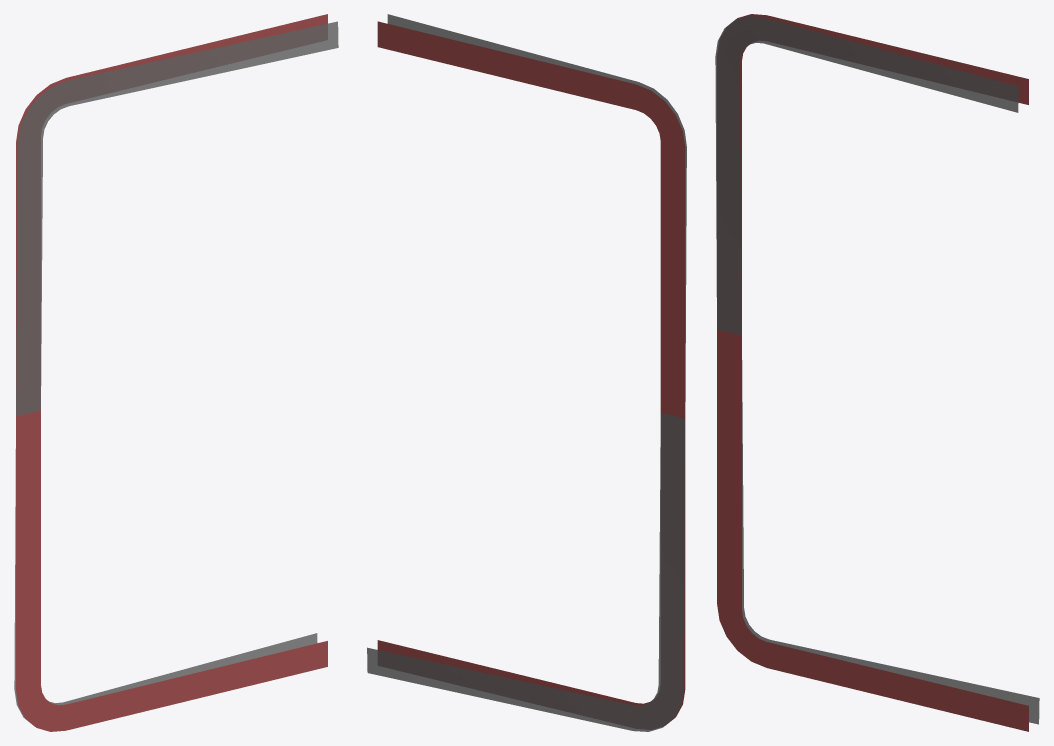
Rendered from warping-cold-formed-u-100-50-4-8-6-449.glb.
3 renders of one model, left to right at view 1: azimuth 30°, elevation 25°; view 2: azimuth 150°, elevation 25°; view 3: azimuth 330°, elevation 25°, orthographic.
Visible parts, largest first — view 1: undeformed cross-section, cross-section with warping; view 2: undeformed cross-section, cross-section with warping; view 3: undeformed cross-section, cross-section with warping.
Boxes of the visible parts, box(x1,y1,x2,y2) form: undeformed cross-section: box(16, 14, 327, 731); cross-section with warping: box(14, 21, 338, 725); undeformed cross-section: box(377, 21, 685, 727); cross-section with warping: box(367, 14, 686, 731); undeformed cross-section: box(717, 14, 1028, 731); cross-section with warping: box(715, 16, 1039, 724).
Size of the model in its own units: 0.05 by 0.1 by 0.00589.
